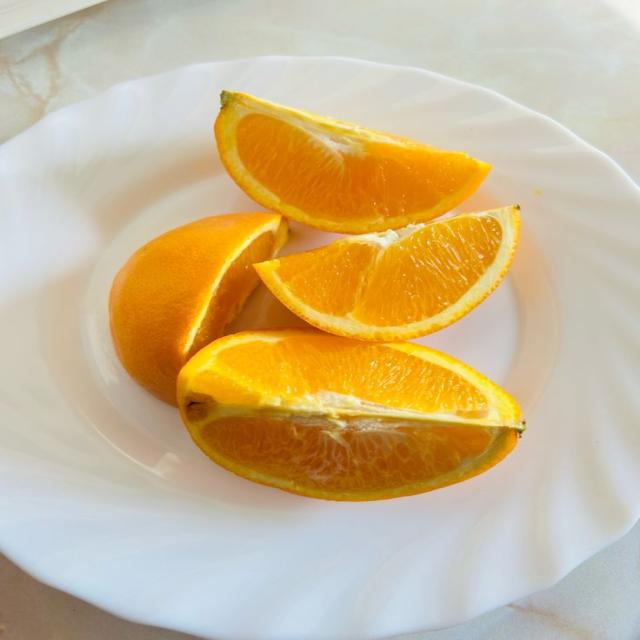orange: (178, 329, 523, 500), (215, 92, 490, 233), (255, 207, 519, 340), (109, 213, 287, 404)
